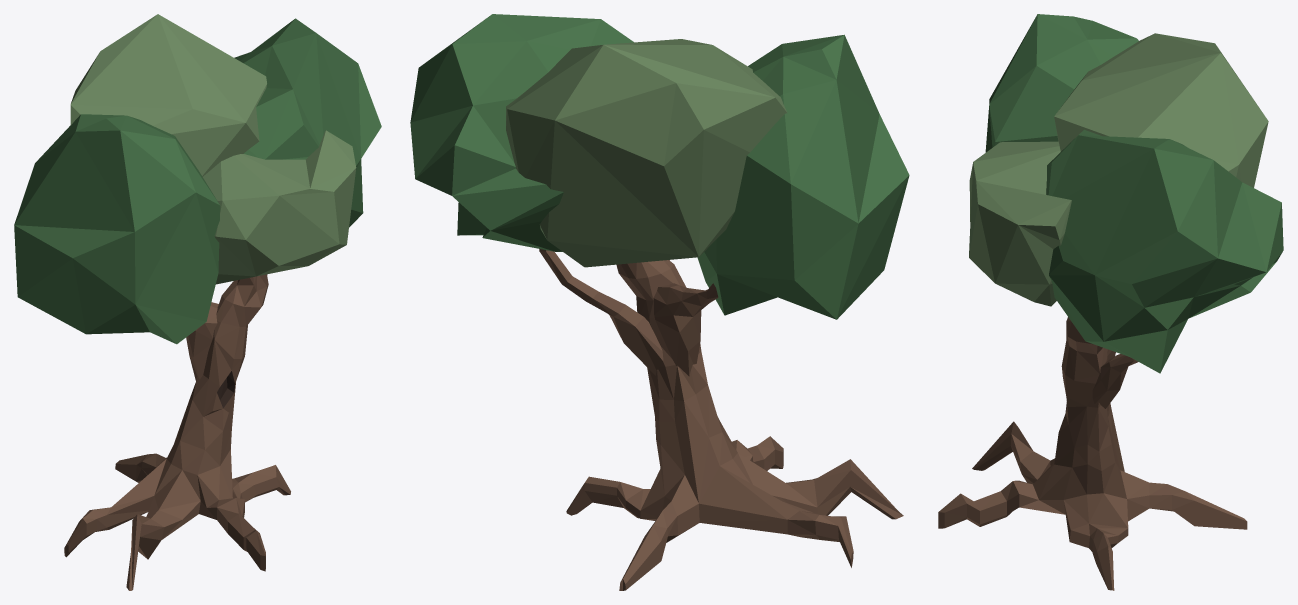
File: _treee_1.fbx
The picture shows the model from 3 angles, left to right: view 1: azimuth 30°, elevation 25°; view 2: azimuth 150°, elevation 25°; view 3: azimuth 270°, elevation 25°; orthographic projection. The views are drawn at different scales.
Parts seen in each view (by area): view 1: treee_1; view 2: treee_1; view 3: treee_1.
Boxes of the visible parts, x1=… form: treee_1: x1=14, y1=14, x2=381, y2=590; treee_1: x1=410, y1=14, x2=909, y2=590; treee_1: x1=938, y1=14, x2=1283, y2=590.
Size of the model in its own units: 446 by 541 by 341.
